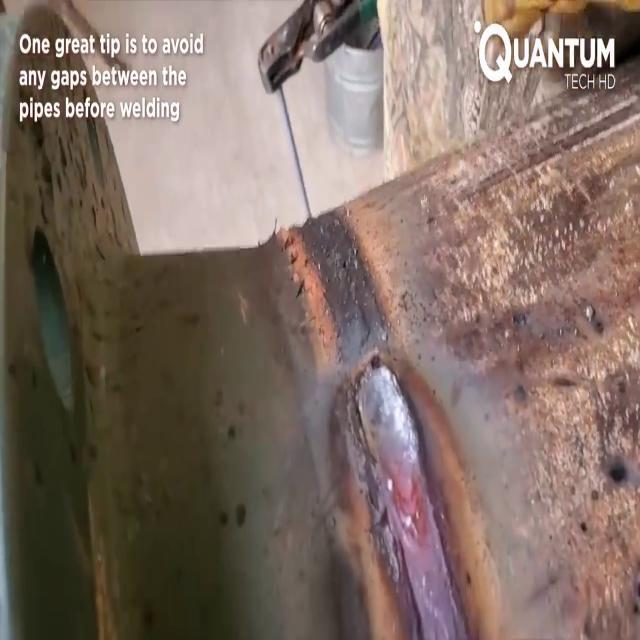Good Weld: (350, 360, 470, 639)
